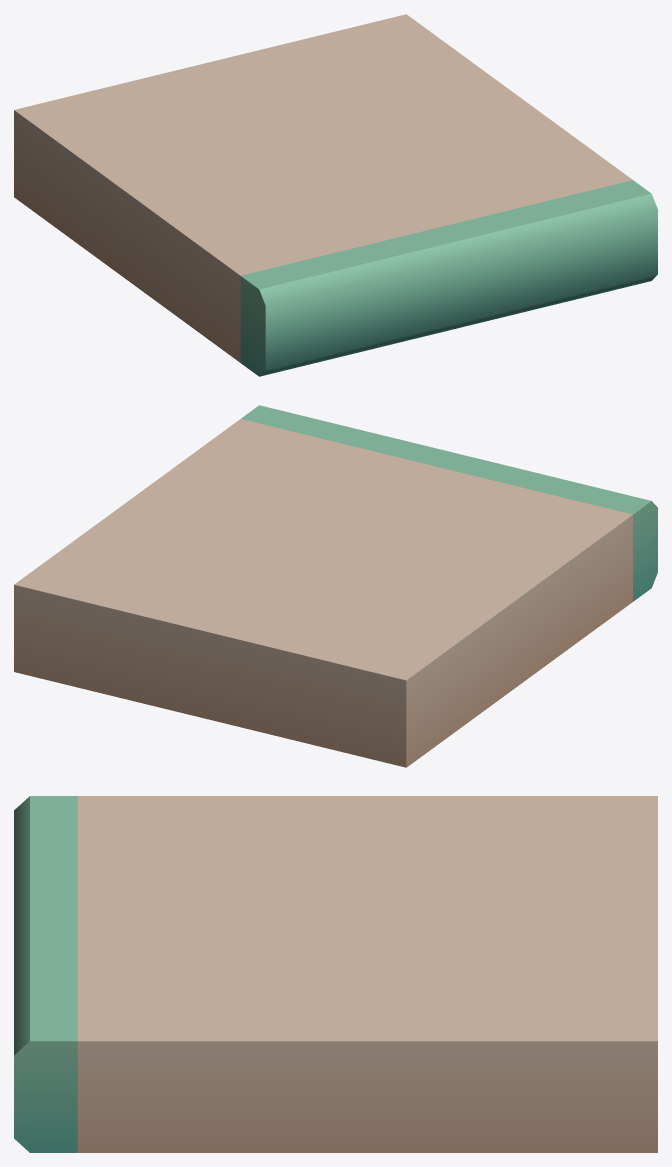
The model's file is roof-flat-awning-a.glb.
3 renders of one model, top to bottom at view 1: azimuth 30°, elevation 25°; view 2: azimuth 150°, elevation 25°; view 3: azimuth 270°, elevation 25°, orthographic. The views are drawn at different scales.
Parts seen in each view (by area): view 1: roof-flat-awning-a; view 2: roof-flat-awning-a; view 3: roof-flat-awning-a.
Part boxes in pixels (<box>): roof-flat-awning-a: <box>14,14,657,376</box>; roof-flat-awning-a: <box>14,405,657,767</box>; roof-flat-awning-a: <box>14,796,657,1152</box>.
Size of the model in its own units: 1 by 0.2125 by 1.11.
